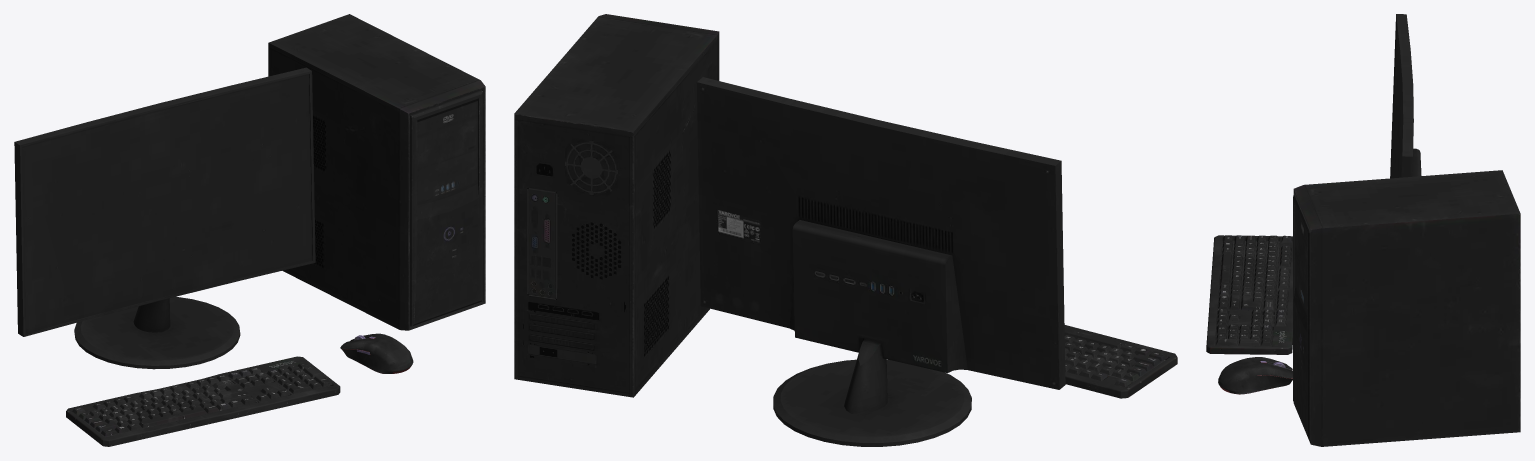
File: pc_setup_-_game_ready.glb
The picture shows the model from 3 angles, left to right: view 1: azimuth 30°, elevation 25°; view 2: azimuth 150°, elevation 25°; view 3: azimuth 270°, elevation 25°; orthographic projection. The views are drawn at different scales.
Parts seen in each view (by area): view 1: SM_PC_Box_01; view 2: SM_PC_Box_01; view 3: SM_PC_Box_01.
Part boxes in pixels (<box>): SM_PC_Box_01: <box>14,14,485,446</box>; SM_PC_Box_01: <box>514,14,1177,446</box>; SM_PC_Box_01: <box>1206,14,1520,446</box>.
Size of what is drawn, in the model's own units: 0.9557 by 0.4959 by 0.6121.
1 material, 1 textured.
